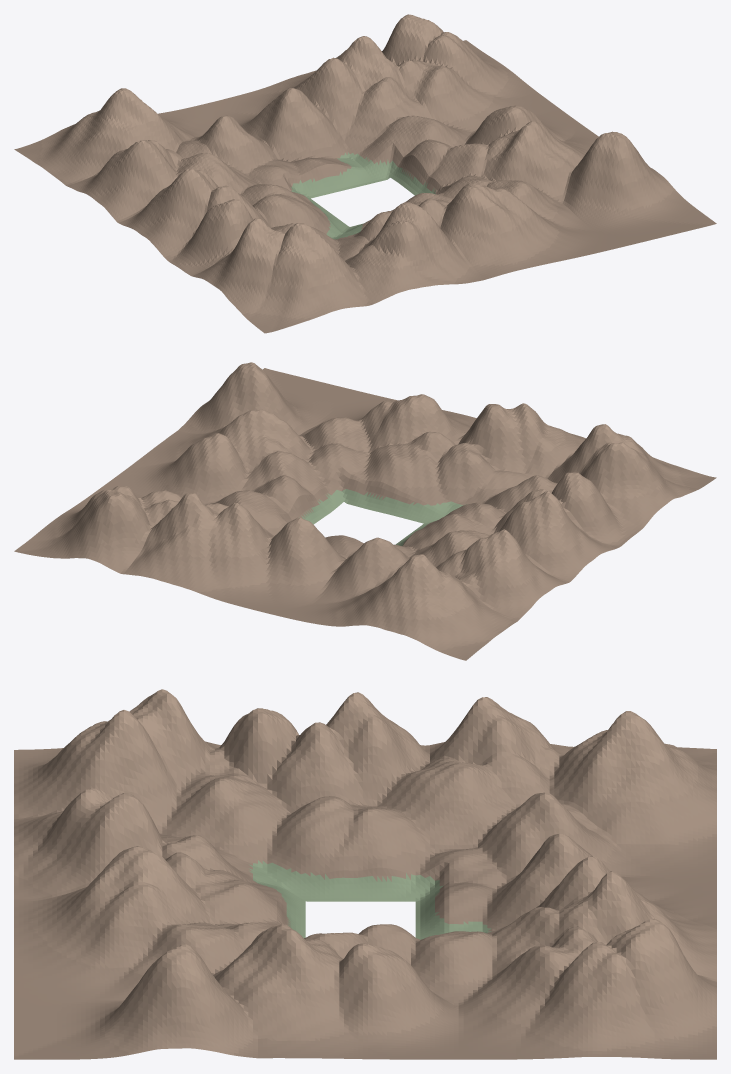
File: mountain-surround.glb
3 renders of one model, top to bottom at view 1: azimuth 30°, elevation 25°; view 2: azimuth 150°, elevation 25°; view 3: azimuth 270°, elevation 25°, orthographic. The views are drawn at different scales.
Parts seen in each view (by area): view 1: Game mesh Sandstone warm 1, Game mesh Sandstone warm 2, Game mesh Sandstone warm 0, Game mesh Sandstone warm 3, Game mesh Foothill sage, Game mesh Sandstone warm 4; view 2: Game mesh Sandstone warm 1, Game mesh Sandstone warm 2, Game mesh Sandstone warm 0, Game mesh Sandstone warm 3, Game mesh Foothill sage, Game mesh Sandstone warm 4; view 3: Game mesh Sandstone warm 1, Game mesh Sandstone warm 2, Game mesh Sandstone warm 0, Game mesh Sandstone warm 3, Game mesh Foothill sage, Game mesh Sandstone warm 4.
Boxes of the visible parts, bbox=[...] form: Game mesh Sandstone warm 1: bbox=[39, 51, 675, 319]; Game mesh Sandstone warm 2: bbox=[71, 36, 649, 290]; Game mesh Sandstone warm 0: bbox=[14, 40, 716, 333]; Game mesh Sandstone warm 3: bbox=[97, 16, 636, 264]; Game mesh Foothill sage: bbox=[291, 152, 436, 239]; Game mesh Sandstone warm 4: bbox=[111, 14, 415, 235]; Game mesh Sandstone warm 1: bbox=[50, 394, 694, 651]; Game mesh Sandstone warm 2: bbox=[75, 377, 663, 621]; Game mesh Sandstone warm 0: bbox=[14, 368, 716, 660]; Game mesh Sandstone warm 3: bbox=[89, 362, 649, 592]; Game mesh Foothill sage: bbox=[299, 489, 467, 546]; Game mesh Sandstone warm 4: bbox=[109, 424, 631, 567]; Game mesh Sandstone warm 1: bbox=[14, 741, 716, 1055]; Game mesh Sandstone warm 2: bbox=[43, 717, 697, 1024]; Game mesh Sandstone warm 0: bbox=[14, 746, 716, 1059]; Game mesh Sandstone warm 3: bbox=[66, 694, 683, 990]; Game mesh Foothill sage: bbox=[249, 860, 491, 939]; Game mesh Sandstone warm 4: bbox=[109, 689, 664, 927].
Size of the model in its own units: 306 by 52.08 by 294.
